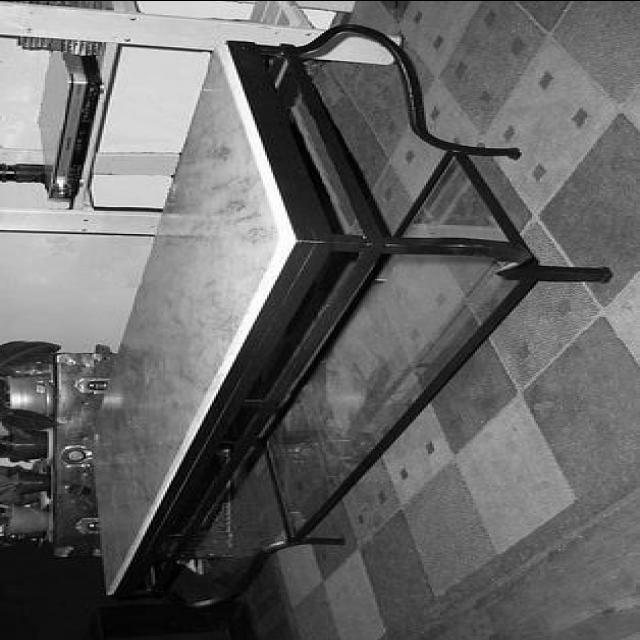table: (103, 24, 613, 598)
